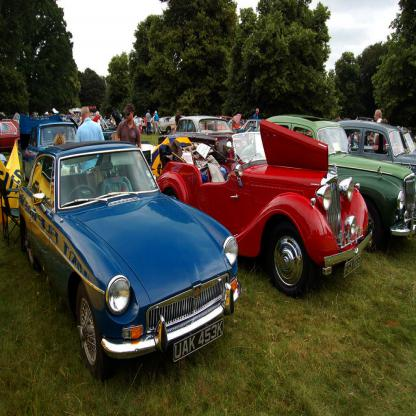Car: (0, 113, 416, 384)
